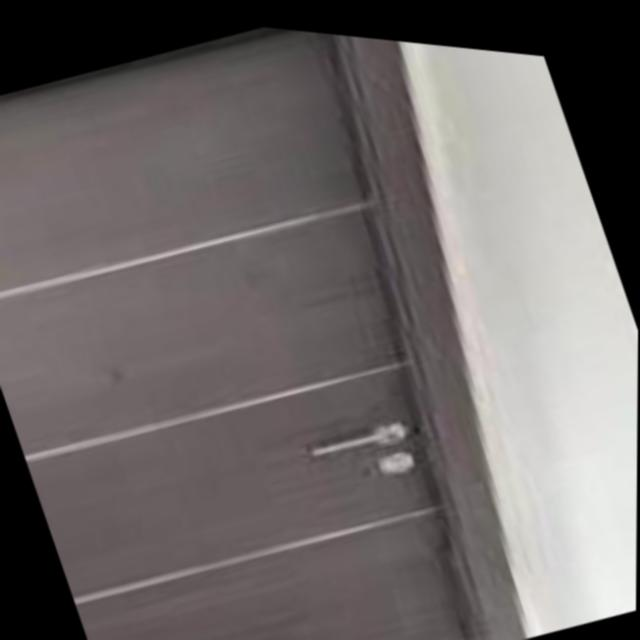door_handle: (292, 379, 423, 482)
